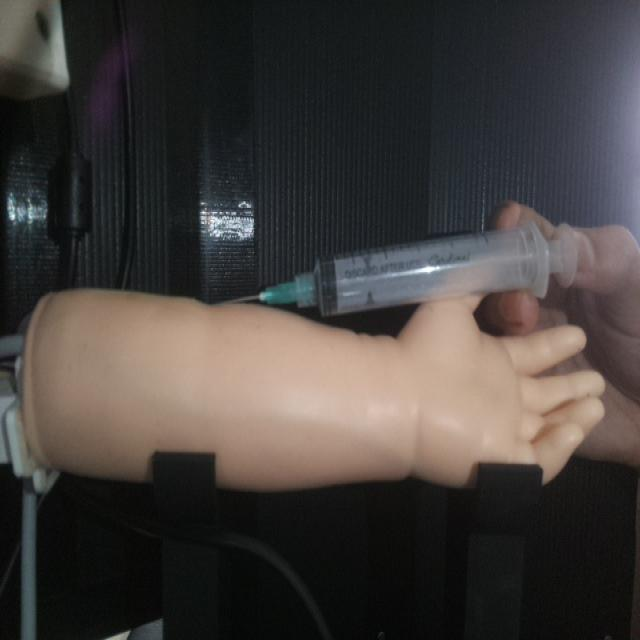Outside: (232, 217, 578, 319)
